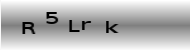5: (44, 10, 58, 25)
L: (66, 18, 81, 34)
R: (20, 21, 36, 35)
k: (104, 19, 118, 34)
r: (79, 18, 93, 32)
